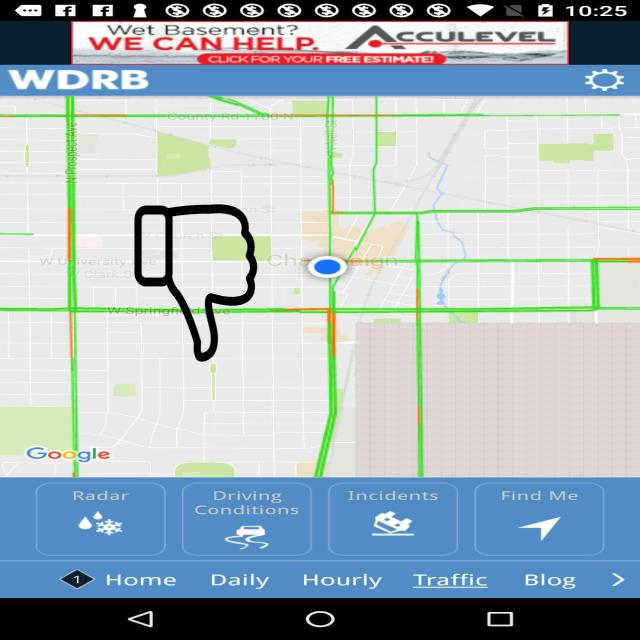obstruction: (133, 204, 259, 362)
